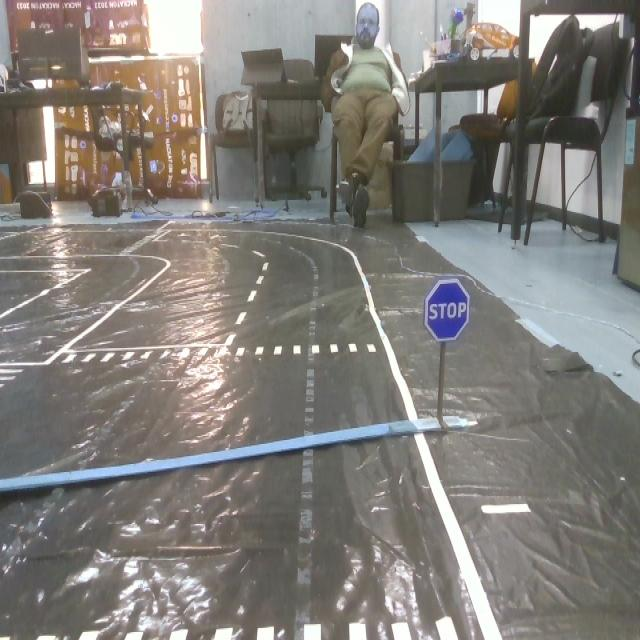no_entry: (424, 279, 478, 346)
